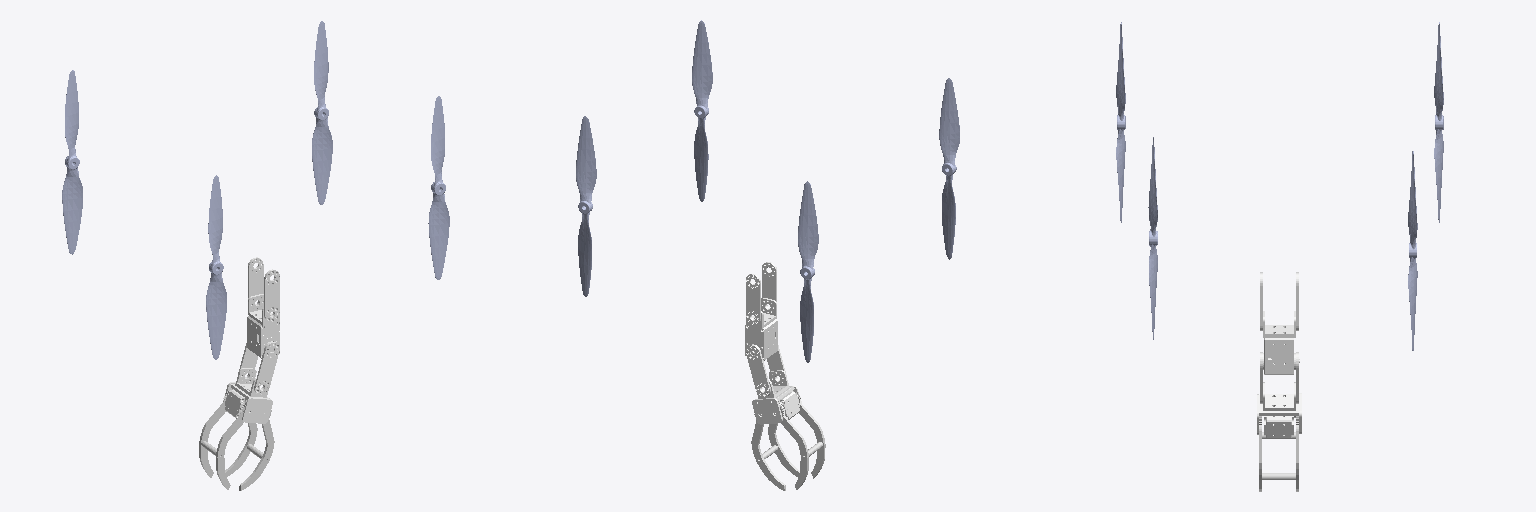
The robot description file, URDF, robot "s500_uam":
<?xml version="1.0" encoding="utf-8"?>
<!-- This URDF was automatically created by SolidWorks to URDF Exporter! Originally created by [author] ([email redacted]) 
     Commit Version: 1.6.0-4-g7f85cfe  Build Version: 1.6.7995.38578
     For more information, please see http://wiki.ros.org/sw_urdf_exporter -->
<robot
  name="s500_uam">
  <link name="base_link">
    <inertial>
      <origin
        xyz="0 0 0"
        rpy="0 0 0" />
      <mass
        value="1.772" />
      <inertia
        ixx="0.0165"
        ixy="0.0"
        ixz="0.0"
        iyy="0.0186"
        iyz="0.0"
        izz="0.0250" />
    </inertial>
    <visual>
      <origin
        xyz="0 0 0"
        rpy="0 0 0" />
      <geometry>
        <mesh
          filename="package://s500_quadrotor/meshes/base_link.STL" />
      </geometry>
      <material
        name="">
        <color
          rgba="0.752941176470588 0.752941176470588 0.752941176470588 1" />
      </material>
    </visual>
    <collision>
      <origin
        xyz="0 0 0"
        rpy="0 0 0" />
      <geometry>
        <mesh
          filename="package://s500_quadrotor/meshes/base_link.STL" />
      </geometry>
    </collision>
  </link>
  <link name="rotor_1">
    <inertial>
      <origin
        xyz="3.9471E-08 0.025041 -1.4592E-05"
        rpy="0 0 0" />
      <mass
        value="0.010198" />
      <inertia
        ixx="3.3719E-05"
        ixy="7.4123E-13"
        ixz="-4.3241E-07"
        iyy="3.3918E-05"
        iyz="-3.8834E-11"
        izz="2.8343E-07" />
    </inertial>
    <visual>
      <origin
        xyz="0 0 0"
        rpy="0 0 0" />
      <geometry>
        <mesh
          filename="package://s500_quadrotor/meshes/rotor_1.STL" />
      </geometry>
      <material
        name="">
        <color
          rgba="0.79216 0.81961 0.93333 1" />
      </material>
    </visual>
    <collision>
      <origin
        xyz="0 0 0"
        rpy="0 0 0" />
      <geometry>
        <mesh
          filename="package://s500_quadrotor/meshes/rotor_1.STL" />
      </geometry>
    </collision>
  </link>
  <joint name="rotor_joint_1" type="fixed">
    <origin
      xyz="0.171 0.171 0.045"
      rpy="0 0 0" />
    <parent
      link="base_link" />
    <child
      link="rotor_1" />
    <axis
      xyz="0 1 0" />
  </joint>
  <link name="rotor_2">
    <inertial>
      <origin
        xyz="8.1559E-08 0.027195 -1.4122E-05"
        rpy="0 0 0" />
      <mass
        value="0.010198" />
      <inertia
        ixx="3.3719E-05"
        ixy="-8.3558E-13"
        ixz="-4.3246E-07"
        iyy="3.3919E-05"
        iyz="-4.2468E-11"
        izz="2.8344E-07" />
    </inertial>
    <visual>
      <origin
        xyz="0 0 0"
        rpy="0 0 0" />
      <geometry>
        <mesh
          filename="package://s500_quadrotor/meshes/rotor_2.STL" />
      </geometry>
      <material
        name="">
        <color
          rgba="0.79216 0.81961 0.93333 1" />
      </material>
    </visual>
    <collision>
      <origin
        xyz="0 0 0"
        rpy="0 0 0" />
      <geometry>
        <mesh
          filename="package://s500_quadrotor/meshes/rotor_2.STL" />
      </geometry>
    </collision>
  </link>
  <joint name="rotor_joint_2" type="fixed">
    <origin
      xyz="-0.171 0.171 0.045"
      rpy="0 0 0" />
    <parent
      link="base_link" />
    <child
      link="rotor_2" />
    <axis
      xyz="0 1 0" />
  </joint>
  <link name="rotor_3">
    <inertial>
      <origin
        xyz="9.9115E-08 0.011499 -1.3684E-05"
        rpy="0 0 0" />
      <mass
        value="0.010198" />
      <inertia
        ixx="3.3719E-05"
        ixy="1.6825E-12"
        ixz="-4.3246E-07"
        iyy="3.3919E-05"
        iyz="-5.4463E-11"
        izz="2.8343E-07" />
    </inertial>
    <visual>
      <origin
        xyz="0 0 0"
        rpy="0 0 0" />
      <geometry>
        <mesh
          filename="package://s500_quadrotor/meshes/rotor_3.STL" />
      </geometry>
      <material
        name="">
        <color
          rgba="0.79216 0.81961 0.93333 1" />
      </material>
    </visual>
    <collision>
      <origin
        xyz="0 0 0"
        rpy="0 0 0" />
      <geometry>
        <mesh
          filename="package://s500_quadrotor/meshes/rotor_3.STL" />
      </geometry>
    </collision>
  </link>
  <joint name="rotor_joint_3" type="fixed">
    <origin
      xyz="-0.171 -0.171 0.045"
      rpy="0 0 0" />
    <parent
      link="base_link" />
    <child
      link="rotor_3" />
    <axis
      xyz="0 1 0" />
  </joint>
  <link name="rotor_4">
    <inertial>
      <origin
        xyz="1.4103E-07 0.009346 -1.3967E-05"
        rpy="0 0 0" />
      <mass
        value="0.010198" />
      <inertia
        ixx="3.3719E-05"
        ixy="1.1737E-12"
        ixz="-4.3243E-07"
        iyy="3.3918E-05"
        iyz="-4.6991E-11"
        izz="2.8343E-07" />
    </inertial>
    <visual>
      <origin
        xyz="0 0 0"
        rpy="0 0 0" />
      <geometry>
        <mesh
          filename="package://s500_quadrotor/meshes/rotor_4.STL" />
      </geometry>
      <material
        name="">
        <color
          rgba="0.79216 0.81961 0.93333 1" />
      </material>
    </visual>
    <collision>
      <origin
        xyz="0 0 0"
        rpy="0 0 0" />
      <geometry>
        <mesh
          filename="package://s500_quadrotor/meshes/rotor_4.STL" />
      </geometry>
    </collision>
  </link>
  <joint name="rotor_joint_4" type="fixed">
    <origin
      xyz="0.1701 -0.1701 0.0603"
      rpy="0 0 0" />
    <parent
      link="base_link" />
    <child
      link="rotor_4" />
    <axis
      xyz="0 1 0" />
  </joint>
  <link name="link_1">
    <inertial>
      <origin
        xyz="-5.7463E-12 -0.00019643 -0.076809"
        rpy="0 0 0" />
      <mass
        value="0.056776" />
      <inertia
        ixx="1.5689E-05"
        ixy="-1.0155E-16"
        ixz="-5.2428E-15"
        iyy="1.3617E-05"
        iyz="-1.6017E-09"
        izz="8.7857E-06" />
    </inertial>
    <visual>
      <origin
        xyz="0 0 0"
        rpy="0 0 0" />
      <geometry>
        <mesh
          filename="package://s500_uam/meshes/link_1.STL" />
      </geometry>
      <material
        name="">
        <color
          rgba="1 1 1 1" />
      </material>
    </visual>
    <collision>
      <origin
        xyz="0 0 0"
        rpy="0 0 0" />
      <geometry>
        <mesh
          filename="package://s500_uam/meshes/link_1.STL" />
      </geometry>
    </collision>
  </link>
  <joint name="joint_1"
    type="continuous">
    <origin
      xyz="0.0007 0 -0.07275"
      rpy="0 0 0" />
    <parent
      link="base_link" />
    <child
      link="link_1" />
    <axis
      xyz="0 1 0" />
  </joint>
  <link name="link_2">
    <inertial>
      <origin
        xyz="0.00057539 0.00024651 -0.072261"
        rpy="0 0 0" />
      <mass
        value="0.065663" />
      <inertia
        ixx="1.3006E-05"
        ixy="2.5553E-07"
        ixz="4.4082E-09"
        iyy="1.4985E-05"
        iyz="-6.0777E-07"
        izz="1.6054E-05" />
    </inertial>
    <visual>
      <origin
        xyz="0 0 0"
        rpy="0 0 0" />
      <geometry>
        <mesh
          filename="package://s500_uam/meshes/link_2.STL" />
      </geometry>
      <material
        name="">
        <color
          rgba="1 1 1 1" />
      </material>
    </visual>
    <collision>
      <origin
        xyz="0 0 0"
        rpy="0 0 0" />
      <geometry>
        <mesh
          filename="package://s500_uam/meshes/link_2.STL" />
      </geometry>
    </collision>
  </link>
  <joint name="joint_2"
    type="continuous">
    <origin
      xyz="0 0 -0.09925"
      rpy="0 0.2936 0" />
    <parent
      link="link_1" />
    <child
      link="link_2" />
    <axis
      xyz="0 1 0" />
  </joint>
  <link name="link_3">
    <inertial>
      <origin
        xyz="0.025274 0.000991 -0.041284"
        rpy="0 0 0" />
      <mass
        value="0.012158" />
      <inertia
        ixx="1.0667E-05"
        ixy="-2.5213E-09"
        ixz="3.6553E-06"
        iyy="1.2675E-05"
        iyz="4.2721E-09"
        izz="2.4775E-06" />
    </inertial>
    <visual>
      <origin
        xyz="0 0 0"
        rpy="0 0 0" />
      <geometry>
        <mesh
          filename="package://s500_uam/meshes/link_3.STL" />
      </geometry>
      <material
        name="">
        <color
          rgba="0.92157 0.92157 0.92157 1" />
      </material>
    </visual>
    <collision>
      <origin
        xyz="0 0 0"
        rpy="0 0 0" />
      <geometry>
        <mesh
          filename="package://s500_uam/meshes/link_3.STL" />
      </geometry>
    </collision>
  </link>
  <joint name="joint_3"
    type="continuous">
    <origin
      xyz="-0.011 0 -0.08225"
      rpy="0 0.23432 3.1416" />
    <parent
      link="link_2" />
    <child
      link="link_3" />
    <axis
      xyz="0 1 0" />
  </joint>
  <link name="link_4">
    <inertial>
      <origin
        xyz="0.024422 -0.0009913 -0.039818"
        rpy="0 0 0" />
      <mass
        value="0.012587" />
      <inertia
        ixx="1.1294E-05"
        ixy="2.4212E-09"
        ixz="4.0228E-06"
        iyy="1.352E-05"
        iyz="-4.1022E-09"
        izz="2.6966E-06" />
    </inertial>
    <visual>
      <origin
        xyz="0 0 0"
        rpy="0 0 0" />
      <geometry>
        <mesh
          filename="package://s500_uam/meshes/link_4.STL" />
      </geometry>
      <material
        name="">
        <color
          rgba="0.92157 0.92157 0.92157 1" />
      </material>
    </visual>
    <collision>
      <origin
        xyz="0 0 0"
        rpy="0 0 0" />
      <geometry>
        <mesh
          filename="package://s500_uam/meshes/link_4.STL" />
      </geometry>
    </collision>
  </link>
  <joint name="joint_4"
    type="continuous">
    <origin
      xyz="0.011 0 -0.08225"
      rpy="0 0.26237 0" />
    <parent
      link="link_2" />
    <child
      link="link_4" />
    <axis
      xyz="0 1 0" />
  </joint>
</robot>

--- Facts derived from the render (not from the file) ---
Views: 3 orthographic renders of the robot side by side, from view 1: azimuth 30°, elevation 25°; view 2: azimuth 150°, elevation 25°; view 3: azimuth 270°, elevation 25°.
Model s500_uam with 9 links and 8 joints (4 continuous, 4 fixed), rooted at base_link, posed all joints at 0.
Visible links, largest first — view 1: link_2, link_1, rotor_1, rotor_3, rotor_4, rotor_2, link_3, link_4; view 2: link_2, link_1, rotor_4, rotor_2, rotor_1, rotor_3, link_3, link_4; view 3: link_2, link_1, rotor_3, rotor_2, rotor_1, rotor_4, link_4.
Link boxes in pixels (box(x1,y1,x2,y2)): link_2: box(223, 342, 279, 423); link_1: box(247, 257, 279, 358); rotor_1: box(312, 21, 332, 204); rotor_3: box(206, 175, 226, 359); rotor_4: box(428, 96, 449, 279); rotor_2: box(62, 70, 82, 254); link_3: box(199, 389, 245, 489); link_4: box(225, 410, 274, 490); link_2: box(746, 344, 800, 424); link_1: box(745, 262, 777, 360); rotor_4: box(692, 20, 712, 201); rotor_2: box(798, 181, 818, 362); rotor_1: box(576, 116, 596, 296); rotor_3: box(939, 78, 959, 259); link_3: box(779, 391, 825, 489); link_4: box(751, 412, 799, 490); link_2: box(1257, 352, 1301, 437); link_1: box(1260, 272, 1299, 374); rotor_3: box(1116, 22, 1125, 222); rotor_2: box(1434, 22, 1443, 222); rotor_1: box(1408, 151, 1417, 350); rotor_4: box(1148, 137, 1157, 339); link_4: box(1259, 416, 1298, 491).
Size in the robot's own frame: 0.369 by 0.3692 by 0.5418 metres.
8 mesh visuals loaded from 9 distinct referenced files (8 binary STL); not drawn: 1 (reference not matched to a file when rendering).